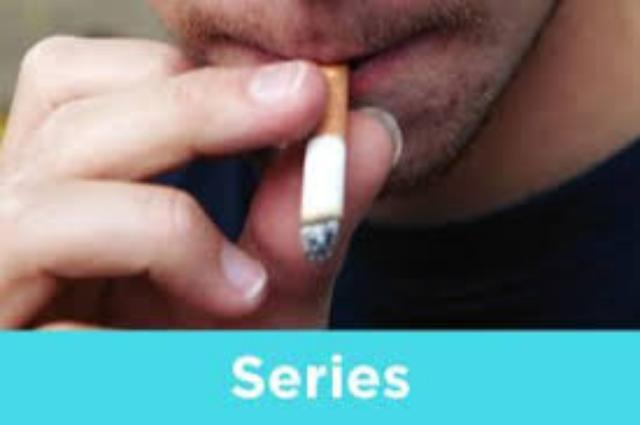Cigarette: (298, 64, 350, 264)
